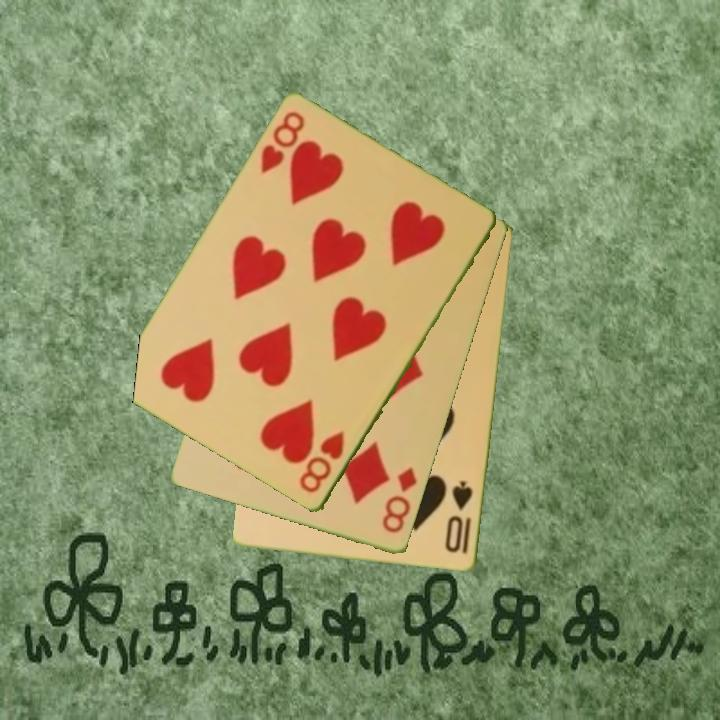10s: (442, 478, 476, 557)
8d: (379, 464, 421, 537)
8h: (296, 428, 348, 497), (257, 108, 308, 177)
